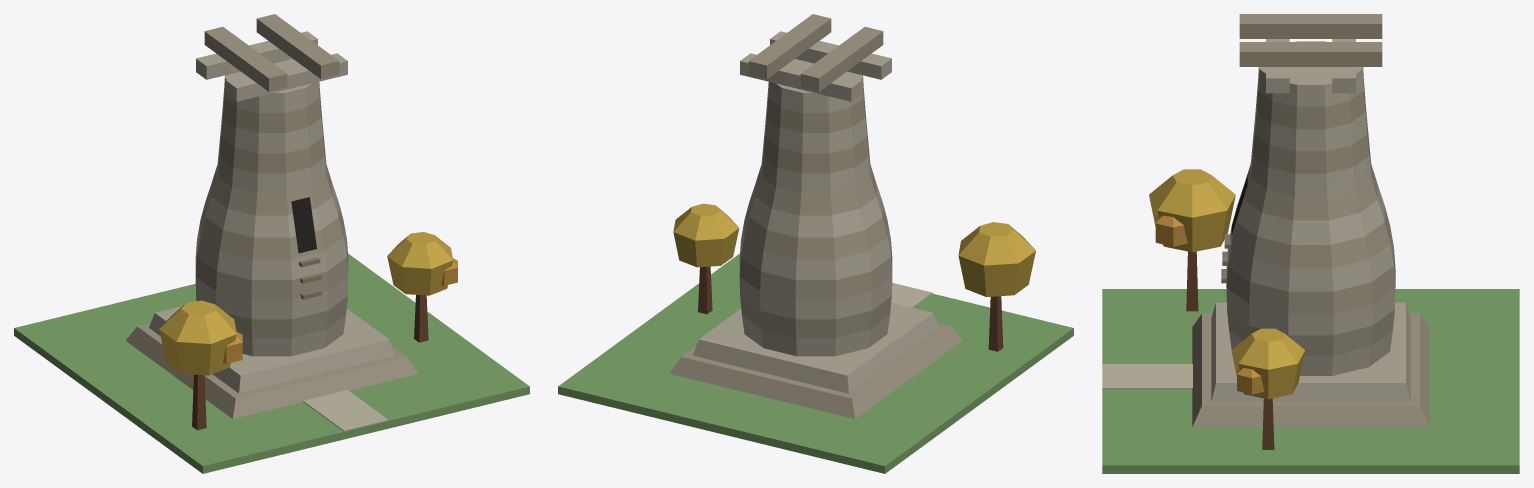
File: cheomseongdae.glb
3 views of the same model, side by side, from view 1: azimuth 30°, elevation 25°; view 2: azimuth 150°, elevation 25°; view 3: azimuth 270°, elevation 25° (orthographic). The views are drawn at different scales.
Visible parts, largest first — view 1: cheomseongdae; view 2: cheomseongdae; view 3: cheomseongdae.
Boxes of the visible parts, x1=… form: cheomseongdae: x1=14, y1=14, x2=529, y2=473; cheomseongdae: x1=558, y1=14, x2=1073, y2=473; cheomseongdae: x1=1102, y1=14, x2=1519, y2=473.
Size of the model in its own units: 1.76 by 1.64 by 1.76.
